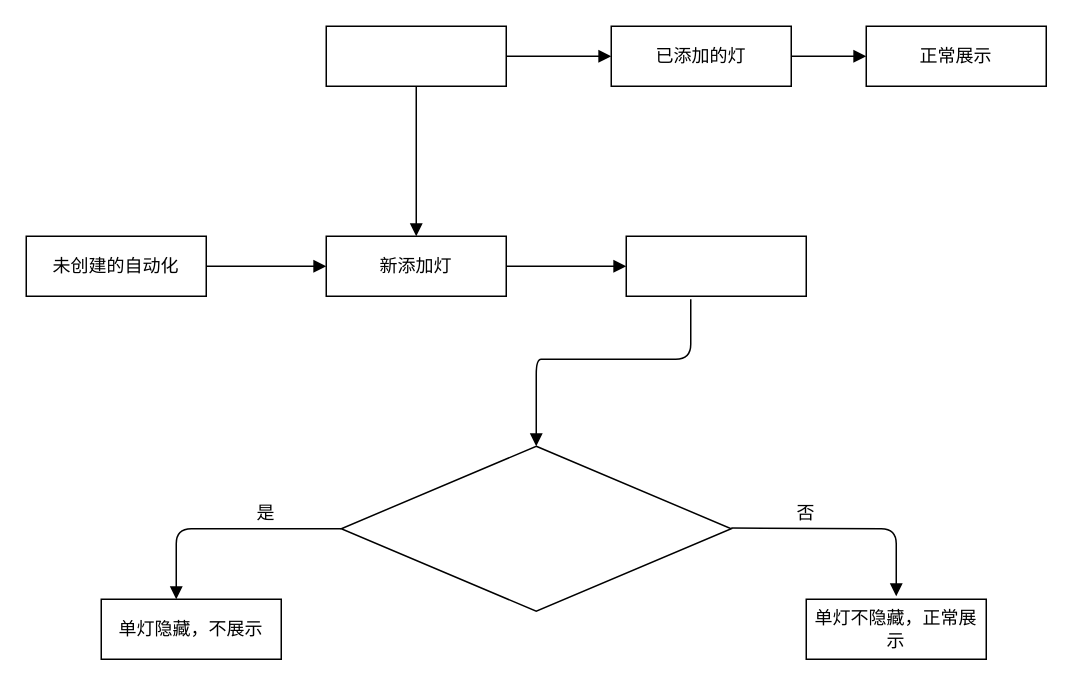
This 1073x686 diagram has some shape labels left out. Each missing label, with the centre of its shape:
单灯所属的所有灯组都设置为隐藏态？: point (535, 528)
已创建的自动化: point (415, 55)
根据单灯所处的灯组的状态判断: point (715, 265)
